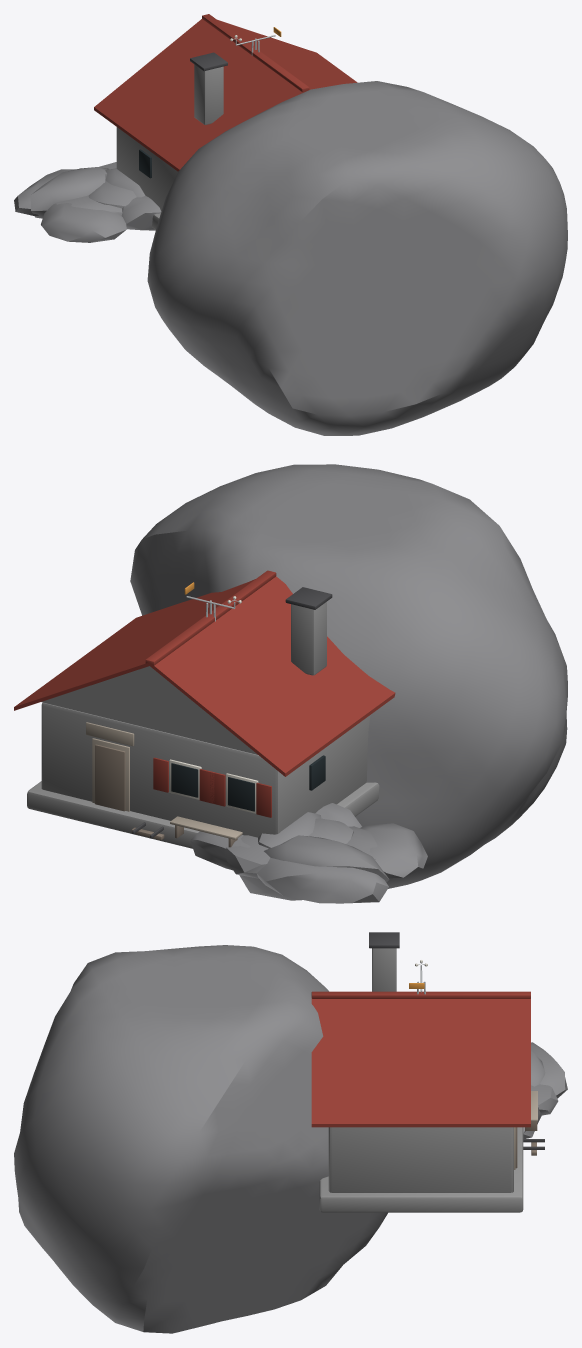
File: AlpineLandmarks.fbx
The picture shows the model from 3 angles, top to bottom: view 1: azimuth 30°, elevation 25°; view 2: azimuth 150°, elevation 25°; view 3: azimuth 270°, elevation 25°; orthographic projection. The views are drawn at different scales.
Parts seen in each view (by area): view 1: MineAdit, StoneHut; view 2: MineAdit, StoneHut; view 3: MineAdit, StoneHut.
Part boxes in pixels (x1,y1,x2,y2): MineAdit: (14, 81, 567, 435); StoneHut: (94, 14, 357, 229); MineAdit: (130, 464, 567, 903); StoneHut: (14, 570, 395, 848); MineAdit: (14, 945, 567, 1333); StoneHut: (311, 932, 537, 1212).
Size of the model in its own units: 15.15 by 11.31 by 17.94.
